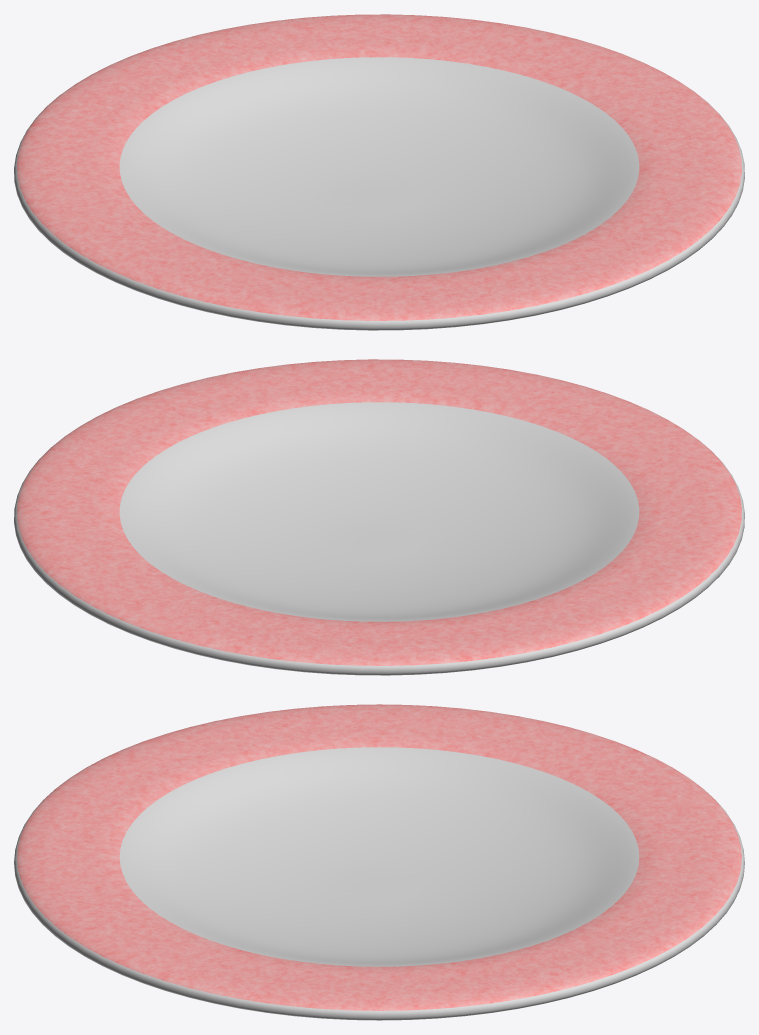
Rendered from Plate_2.obj.
3 views of the same model, one above another, from view 1: azimuth 30°, elevation 25°; view 2: azimuth 150°, elevation 25°; view 3: azimuth 270°, elevation 25° (orthographic).
Visible parts, largest first — view 1: Plate_3; view 2: Plate_3; view 3: Plate_3.
Part boxes in pixels (x1=…): Plate_3: x1=14, y1=14, x2=744, y2=330; Plate_3: x1=14, y1=359, x2=744, y2=675; Plate_3: x1=14, y1=704, x2=744, y2=1020.
Size of the model in its own units: 1.95 by 0.152 by 1.95.
